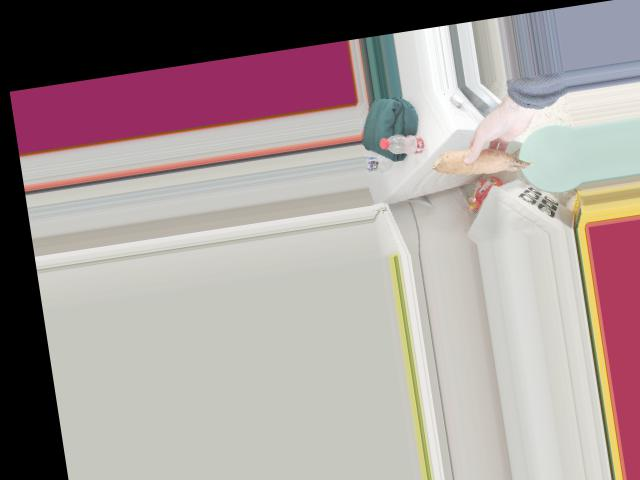sweet_potato: (427, 143, 538, 185)
